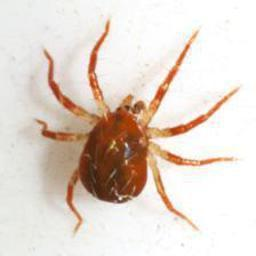Rhipicephalus sanguineus: (33, 17, 244, 238)
